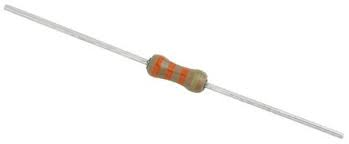resistor: (121, 38, 235, 107)
